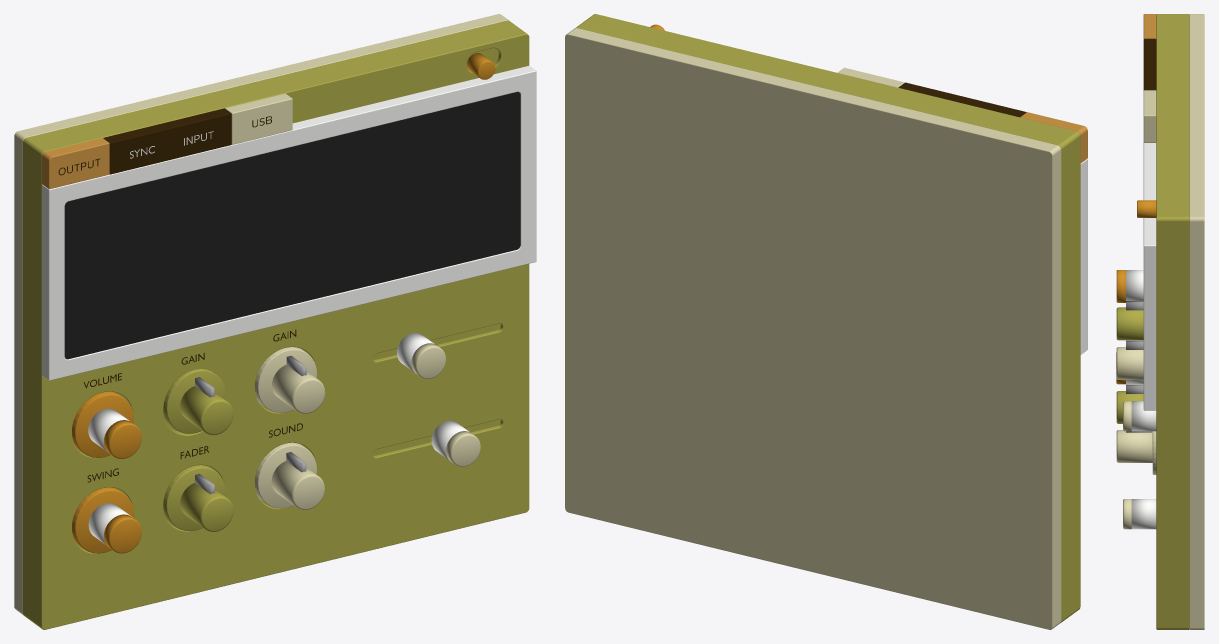
File: Mixer_option1_color.glb
The picture shows the model from 3 angles, left to right: view 1: azimuth 30°, elevation 25°; view 2: azimuth 150°, elevation 25°; view 3: azimuth 270°, elevation 25°; orthographic projection. The views are drawn at different scales.
Parts seen in each view (by area): view 1: baseOption1panel, baseOption1screen, baseOption1, baseOption1auxinput, baseOption1output, baseOption1usb, soundMiddle, gainOption1middle2, faderFadermiddle, gainOption1middle, volumeOption1bottom, swingBottom (+10 smaller); view 2: baseOption1, baseOption1panel, baseOption1screen, baseOption1auxinput, baseOption1output; view 3: baseOption1panel, baseOption1, baseOption1screen, soundMiddle, gainOption1middle, gainOption1middle2, faderOption1bottom2, baseOption1usb, baseOption1auxinput, faderOption1bottom, faderFadermiddle, volumeOption1middle (+6 smaller).
Boxes of the visible parts, <box> form: baseOption1panel: <box>23,20,529,629</box>; baseOption1screen: <box>42,65,536,380</box>; baseOption1: <box>14,14,509,614</box>; baseOption1auxinput: <box>103,108,231,174</box>; baseOption1output: <box>42,138,109,189</box>; baseOption1usb: <box>225,93,292,144</box>; soundMiddle: <box>271,452,324,509</box>; gainOption1middle2: <box>272,355,325,413</box>; faderFadermiddle: <box>180,473,233,531</box>; gainOption1middle: <box>180,377,233,435</box>; volumeOption1bottom: <box>72,391,133,457</box>; swingBottom: <box>72,487,134,553</box>; baseOption1: <box>565,28,1061,629</box>; baseOption1panel: <box>576,14,1080,622</box>; baseOption1screen: <box>1080,158,1087,354</box>; baseOption1auxinput: <box>898,82,1026,117</box>; baseOption1output: <box>1020,112,1087,162</box>; baseOption1panel: <box>1156,14,1189,629</box>; baseOption1: <box>1189,14,1204,629</box>; baseOption1screen: <box>1143,143,1156,410</box>; soundMiddle: <box>1116,430,1152,462</box>; gainOption1middle: <box>1116,301,1143,340</box>; gainOption1middle2: <box>1116,340,1143,379</box>; faderOption1bottom2: <box>1131,499,1156,529</box>; baseOption1usb: <box>1143,90,1156,142</box>; baseOption1auxinput: <box>1143,38,1156,90</box>; faderOption1bottom: <box>1131,401,1156,431</box>; faderFadermiddle: <box>1116,384,1143,423</box>; volumeOption1middle: <box>1126,270,1143,300</box>.
Size of the model in its own units: 1.28 by 1.2 by 0.2321.
